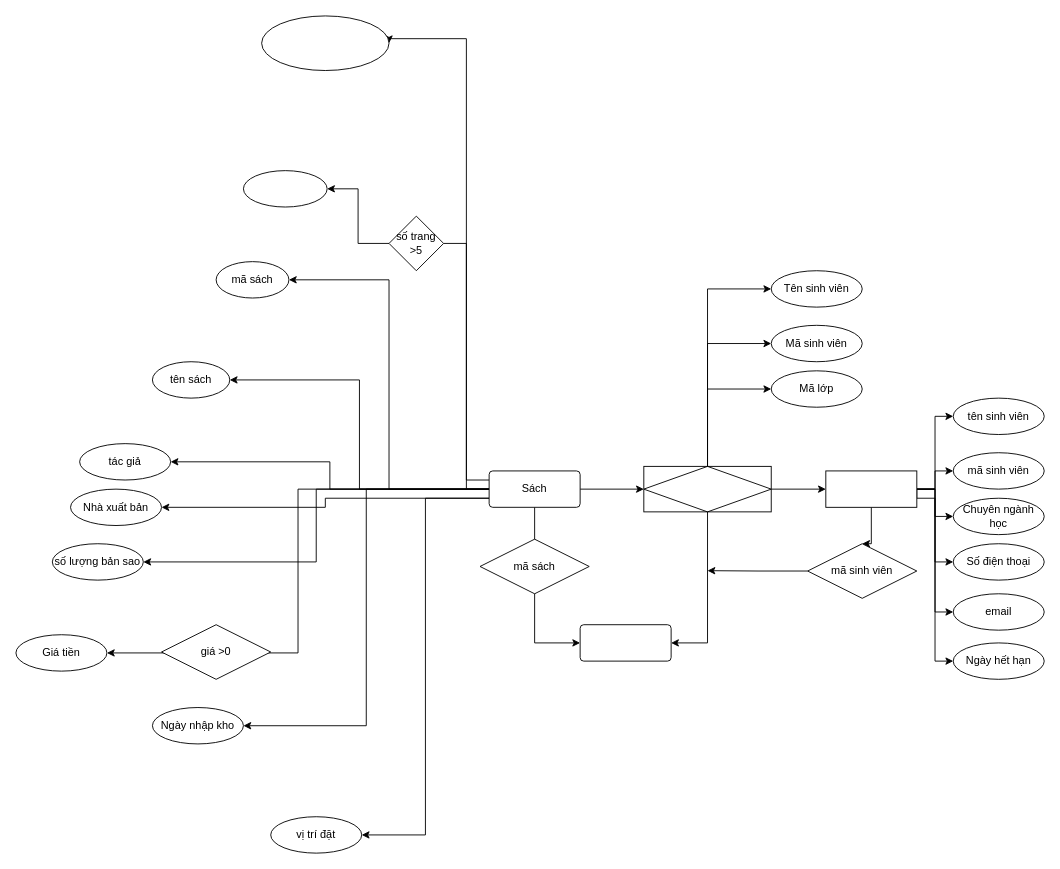
This 1060x869 diagram has some shape labels left out. The shapes that lost their labels are listed below. From the top down, each one's box as (x1, y1, x2, y2) in pixels, then its label:
(261, 15, 389, 71): Thể loại văn học Công nghệ thông tin kinh tế đu lịch
(243, 170, 327, 207): số trang
(643, 465, 771, 512): Phiếu mượn
(825, 470, 917, 507): Sinh viên
(579, 624, 671, 661): phiếu mượn chi tiết
